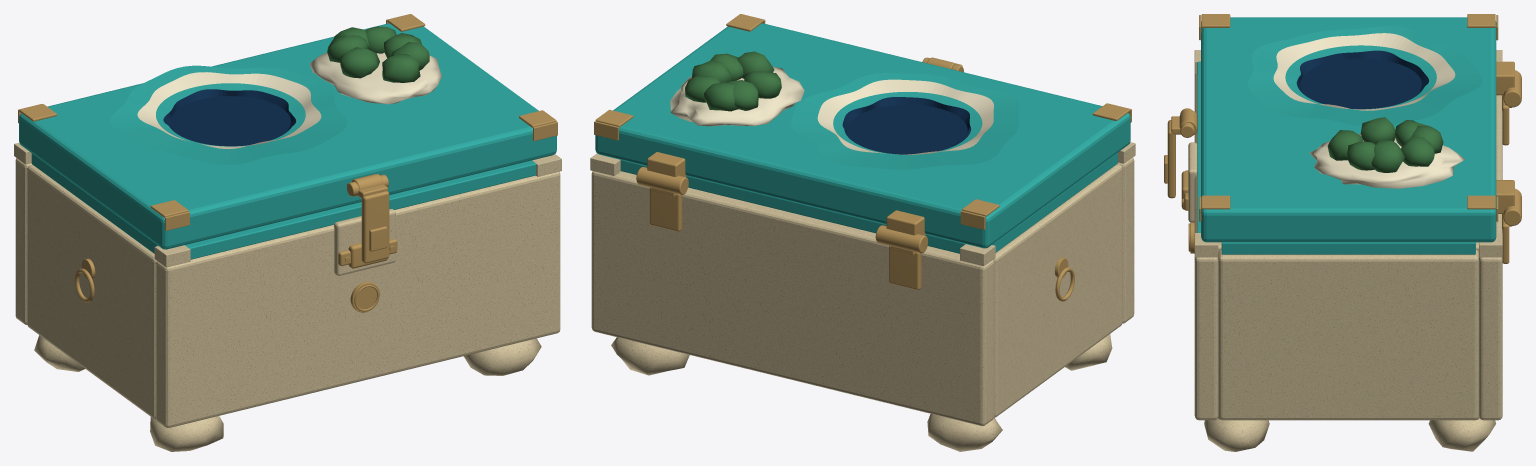
Rendered from belize.glb.
3 views of the same model, side by side, from view 1: azimuth 30°, elevation 25°; view 2: azimuth 150°, elevation 25°; view 3: azimuth 270°, elevation 25° (orthographic).
Visible parts, largest first — view 1: Reef stone / wall, Lid / polished slab, Reef stone / side, Terrain / turquoise shoal, Mineral seam / long, Terrain / Blue Hole floor, Terrain / sand caye, Terrain / pale broken reef, Reef stone / wall.001, Reef stone / foot, Reef stone / foot.002, Latch / lifting hasp (+10 smaller); view 2: Reef stone / wall.001, Lid / polished slab, Reef stone / side, Terrain / turquoise shoal, Terrain / Blue Hole floor, Terrain / pale broken reef, Terrain / sand caye, Mineral seam / long.001, Reef stone / wall, Reef stone / foot.001, Reef stone / foot.003, Mineral seam / side (+16 smaller); view 3: Reef stone / side.001, Lid / polished slab, Terrain / turquoise shoal, Terrain / Blue Hole floor, Reef stone / wall.001, Reef stone / wall, Terrain / pale broken reef, Mineral seam / side.001, Terrain / sand caye, Reef stone / foot.002, Reef stone / foot.003, Terrain / inner drop wall (+20 smaller).
Boxes of the visible parts, bbox=[...] form: Reef stone / wall: bbox=[156, 171, 560, 427]; Lid / polished slab: bbox=[19, 23, 556, 249]; Reef stone / side: bbox=[27, 164, 156, 419]; Terrain / turquoise shoal: bbox=[110, 65, 347, 164]; Mineral seam / long: bbox=[185, 160, 536, 259]; Terrain / Blue Hole floor: bbox=[169, 96, 292, 146]; Terrain / sand caye: bbox=[309, 52, 441, 104]; Terrain / pale broken reef: bbox=[137, 72, 321, 148]; Reef stone / wall.001: bbox=[15, 158, 31, 324]; Reef stone / foot: bbox=[150, 416, 223, 451]; Reef stone / foot.002: bbox=[463, 338, 541, 375]; Latch / lifting hasp: bbox=[361, 191, 389, 263]; Reef stone / wall.001: bbox=[591, 171, 994, 425]; Lid / polished slab: bbox=[595, 23, 1130, 248]; Reef stone / side: bbox=[993, 164, 1122, 417]; Terrain / turquoise shoal: bbox=[791, 73, 1019, 169]; Terrain / Blue Hole floor: bbox=[844, 104, 971, 154]; Terrain / pale broken reef: bbox=[817, 79, 993, 154]; Terrain / sand caye: bbox=[670, 67, 804, 126]; Mineral seam / long.001: bbox=[620, 160, 965, 253]; Reef stone / wall: bbox=[1117, 157, 1134, 323]; Reef stone / foot.001: bbox=[927, 414, 1002, 451]; Reef stone / foot.003: bbox=[611, 337, 689, 375]; Mineral seam / side: bbox=[992, 153, 1117, 252]; Reef stone / side.001: bbox=[1218, 250, 1478, 420]; Lid / polished slab: bbox=[1201, 17, 1496, 242]; Terrain / turquoise shoal: bbox=[1248, 26, 1482, 126]; Terrain / Blue Hole floor: bbox=[1296, 58, 1424, 109]; Reef stone / wall.001: bbox=[1479, 95, 1502, 420]; Reef stone / wall: bbox=[1194, 74, 1218, 420]; Terrain / pale broken reef: bbox=[1273, 33, 1455, 110]; Mineral seam / side.001: bbox=[1221, 242, 1475, 254]; Terrain / sand caye: bbox=[1309, 134, 1464, 188]; Reef stone / foot.002: bbox=[1204, 418, 1269, 451]; Reef stone / foot.003: bbox=[1428, 418, 1495, 451]; Terrain / inner drop wall: bbox=[1298, 50, 1428, 91].
Size of the model in its own units: 3.79 by 2.6 by 2.88.
6 materials, 1 textured.
